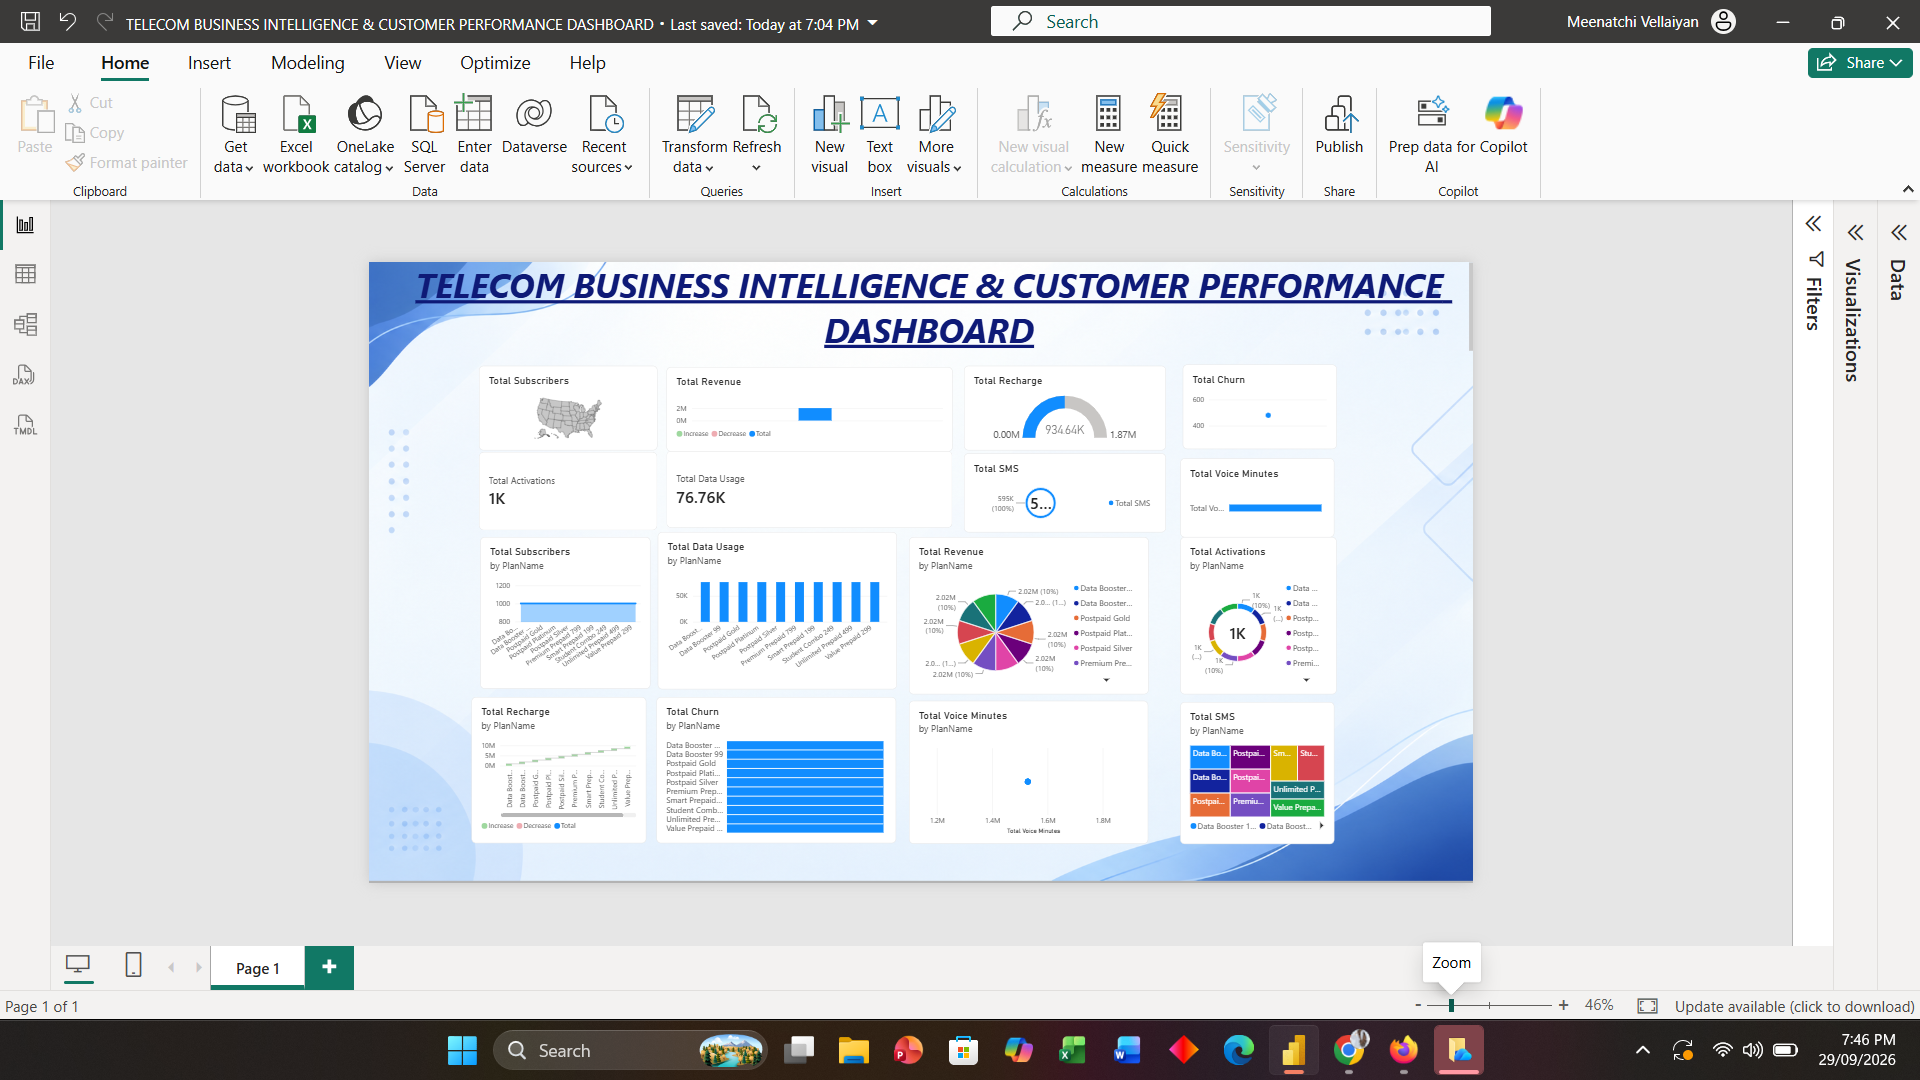

The page's visual inventory and layout, read from the dashboard file:
{"tool":"powerbi","page":{"name":"Page 1","canvas":[1920,1080],"ordinal":0},"visuals":[{"type":"cardVisual","fields":{"Data":["_Measures.Total Activations"]},"box":[191.8,330.6,310.2,136.7],"z":0},{"type":"cardVisual","fields":{"Data":["_Measures.Total Data Usage"]},"box":[518.4,328.6,498,134.7],"z":1000},{"type":"gauge","fields":{"Y":["_Measures.Total Recharge"]},"box":[1034,181.1,350.9,147.2],"z":2000},{"type":"waterfallChart","fields":{"Y":["_Measures.Total Revenue"]},"box":[518.4,181.6,498,146.9],"z":3000},{"type":"donutChart","fields":{"Y":["_Measures.Total SMS"]},"box":[1034,332.1,350.9,137.7],"z":4000},{"type":"shapeMap","fields":{"Value":["_Measures.Total Subscribers"]},"box":[191.8,179.6,310.2,146.9],"z":5000},{"type":"funnel","fields":{"Y":["_Measures.Total Voice Minutes"]},"box":[1411.3,341.5,267.9,137.7],"z":6000},{"type":"areaChart","fields":{"Category":["Dim_Plan.PlanName"],"Y":["_Measures.Total Subscribers"]},"box":[192.5,479.2,296.2,264.2],"z":7000},{"type":"pieChart","fields":{"Category":["Dim_Plan.PlanName"],"Y":["_Measures.Total Revenue"]},"box":[939.6,479.2,417,273.6],"z":8000},{"type":"funnel","fields":{"Category":["Dim_Plan.PlanName"],"Y":["_Measures.Total Churn"]},"box":[500,756.6,417,254.7],"z":9000},{"type":"lineClusteredColumnComboChart","fields":{"Category":["Dim_Plan.PlanName"],"Y":["_Measures.Total Data Usage"]},"box":[502.5,470,416.3,273.5],"z":10000},{"type":"waterfallChart","fields":{"Category":["Dim_Plan.PlanName"],"Y":["_Measures.Total Recharge"]},"box":[179.2,756.6,303.8,254.7],"z":11000},{"type":"treemap","fields":{"Group":["Dim_Plan.PlanName"],"Values":["_Measures.Total SMS"]},"box":[1411.3,764.2,267.9,247.2],"z":12000},{"type":"scatterChart","fields":{"Category":["Dim_Plan.PlanName"],"X":["_Measures.Total Voice Minutes"]},"box":[938.8,763.3,416.3,249],"z":13000},{"type":"donutChart","fields":{"Category":["Dim_Plan.PlanName"],"Y":["_Measures.Total Activations"]},"box":[1411.3,479.2,271.7,273.6],"z":14000},{"type":"areaChart","fields":{"Y":["_Measures.Total Churn"]},"box":[1415.1,179.2,267.9,147.2],"z":15000},{"type":"textbox","box":[1683,122,228,150],"z":16000},{"type":"textbox","box":[34,0,1886.8,154.7],"z":17000}]}

Visuals, with their boxes on the page's 1920x1080 design canvas (x1, y1, x2, y2). These are canvas units, not pixel positions in the 1920x1080 screenshot, which may show the page scaled, cropped or inside an application window:
cardVisual - _Measures.Total Activations: BBox(192, 331, 502, 467)
cardVisual - _Measures.Total Data Usage: BBox(518, 329, 1016, 463)
gauge - _Measures.Total Recharge: BBox(1034, 181, 1385, 328)
waterfallChart - _Measures.Total Revenue: BBox(518, 182, 1016, 328)
donutChart - _Measures.Total SMS: BBox(1034, 332, 1385, 470)
shapeMap - _Measures.Total Subscribers: BBox(192, 180, 502, 326)
funnel - _Measures.Total Voice Minutes: BBox(1411, 342, 1679, 479)
areaChart - Dim_Plan.PlanName x _Measures.Total Subscribers: BBox(192, 479, 489, 743)
pieChart - Dim_Plan.PlanName x _Measures.Total Revenue: BBox(940, 479, 1357, 753)
funnel - Dim_Plan.PlanName x _Measures.Total Churn: BBox(500, 757, 917, 1011)
lineClusteredColumnComboChart - Dim_Plan.PlanName x _Measures.Total Data Usage: BBox(502, 470, 919, 744)
waterfallChart - Dim_Plan.PlanName x _Measures.Total Recharge: BBox(179, 757, 483, 1011)
treemap - Dim_Plan.PlanName x _Measures.Total SMS: BBox(1411, 764, 1679, 1011)
scatterChart - Dim_Plan.PlanName x _Measures.Total Voice Minutes: BBox(939, 763, 1355, 1012)
donutChart - Dim_Plan.PlanName x _Measures.Total Activations: BBox(1411, 479, 1683, 753)
areaChart - _Measures.Total Churn: BBox(1415, 179, 1683, 326)
textbox: BBox(1683, 122, 1911, 272)
textbox: BBox(34, 0, 1921, 155)
